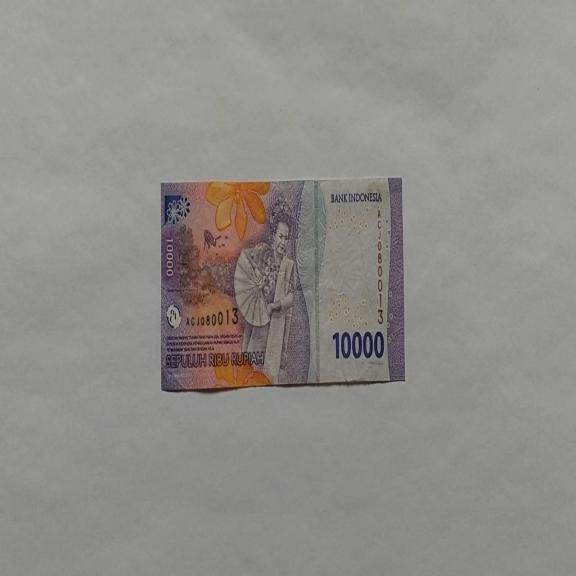Kertas: (160, 176, 405, 392), (332, 328, 384, 361)
